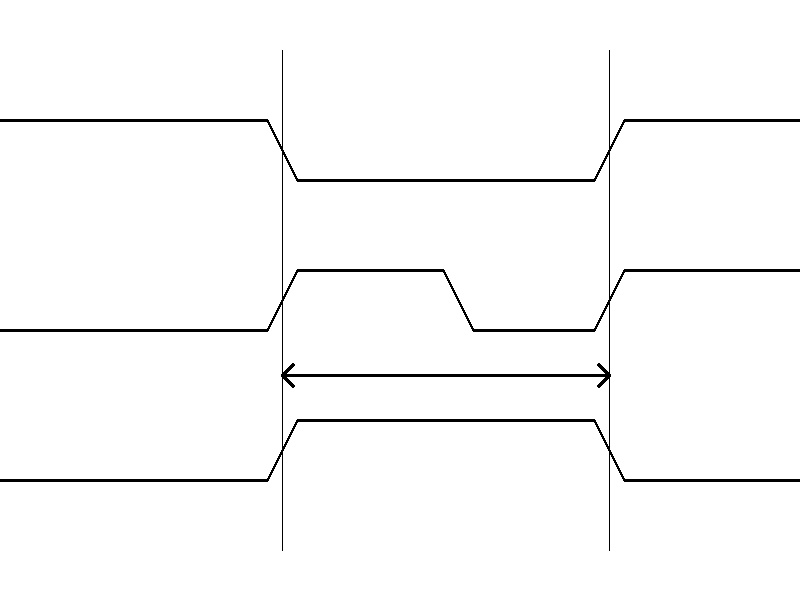double_arrow: (282, 360, 609, 390)
